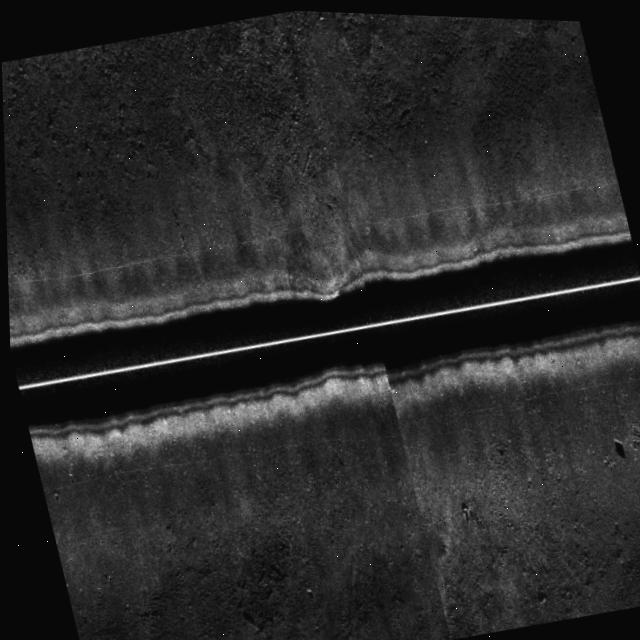mine: (606, 425, 625, 457)
